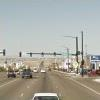Traffic light: (21, 48, 60, 59)
